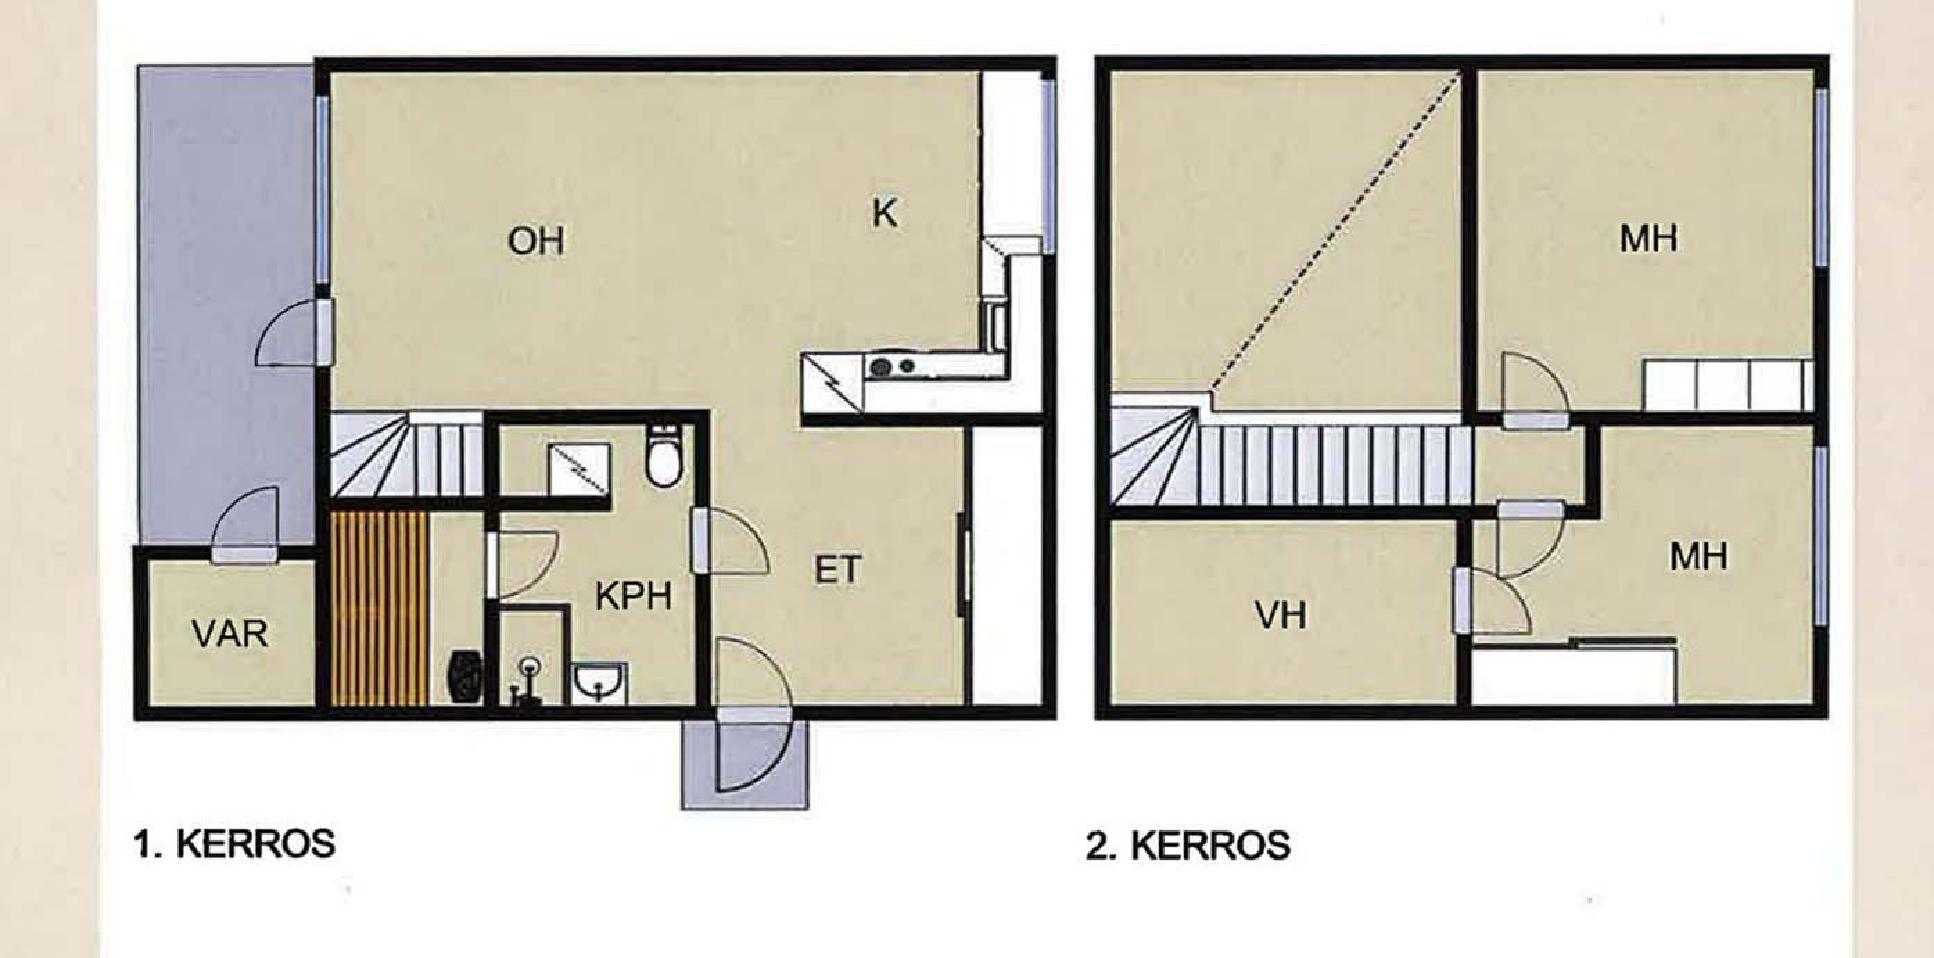door: (717, 634, 794, 784), (241, 300, 340, 380), (204, 489, 294, 575), (686, 508, 786, 583), (1489, 501, 1570, 586), (1452, 565, 1536, 644), (1494, 350, 1570, 433), (483, 533, 562, 596)
window: (313, 106, 333, 284), (1807, 89, 1825, 272), (1039, 83, 1057, 256), (1816, 449, 1834, 620)
zone: (331, 74, 1043, 417), (1113, 68, 1465, 416), (1480, 76, 1817, 418), (1476, 425, 1816, 706), (724, 420, 1045, 704), (134, 67, 315, 544), (1117, 518, 1460, 700), (493, 429, 694, 706), (1110, 412, 1476, 510), (333, 507, 488, 706), (152, 562, 315, 708), (335, 416, 480, 492), (1476, 425, 1587, 501)
